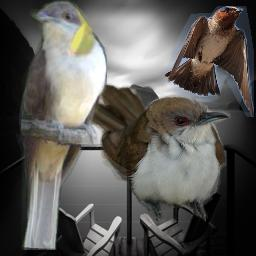Cuckoo: (69, 83, 231, 228), (16, 0, 107, 250)
Swallow: (165, 6, 254, 117)
